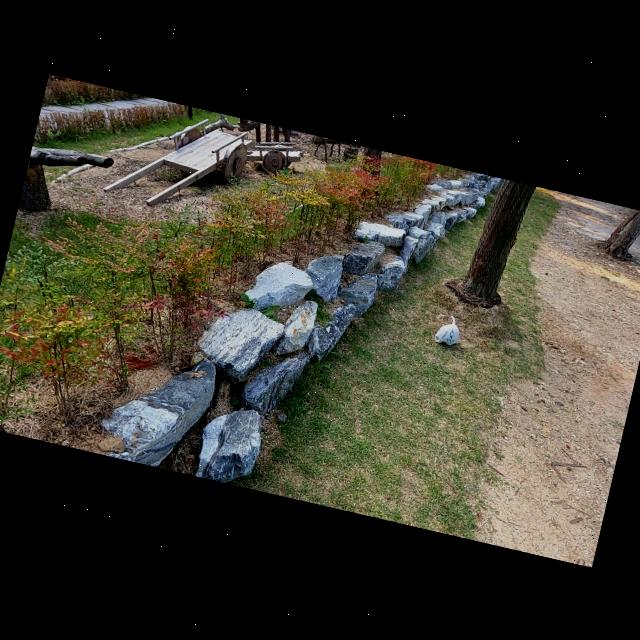trash: (432, 311, 466, 350)
